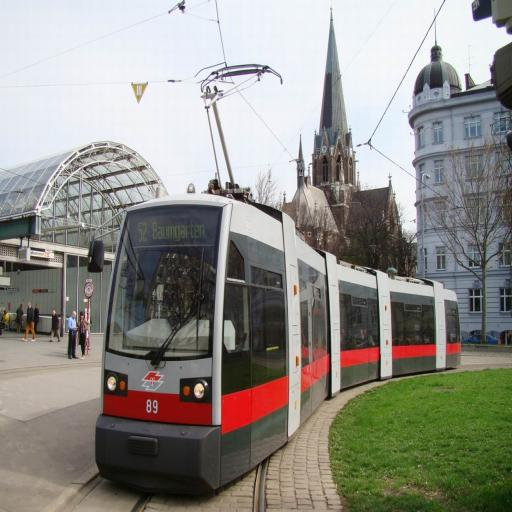ULF: (93, 183, 461, 492)
